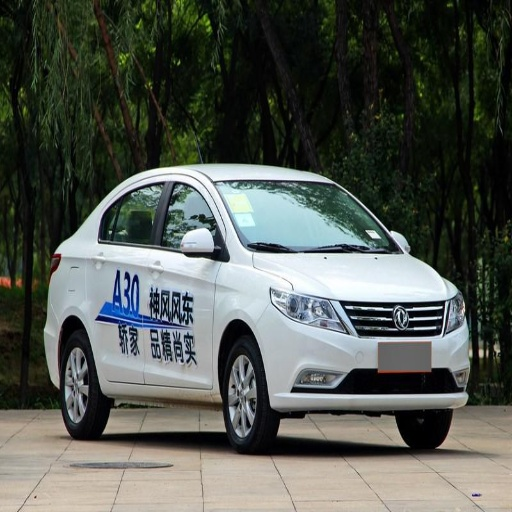back_right_door: (86, 176, 165, 385)
front_bumper: (260, 298, 474, 413)
front_right_door: (145, 177, 222, 387)
front_right_light: (271, 280, 345, 330)
trunk: (50, 260, 82, 325)
